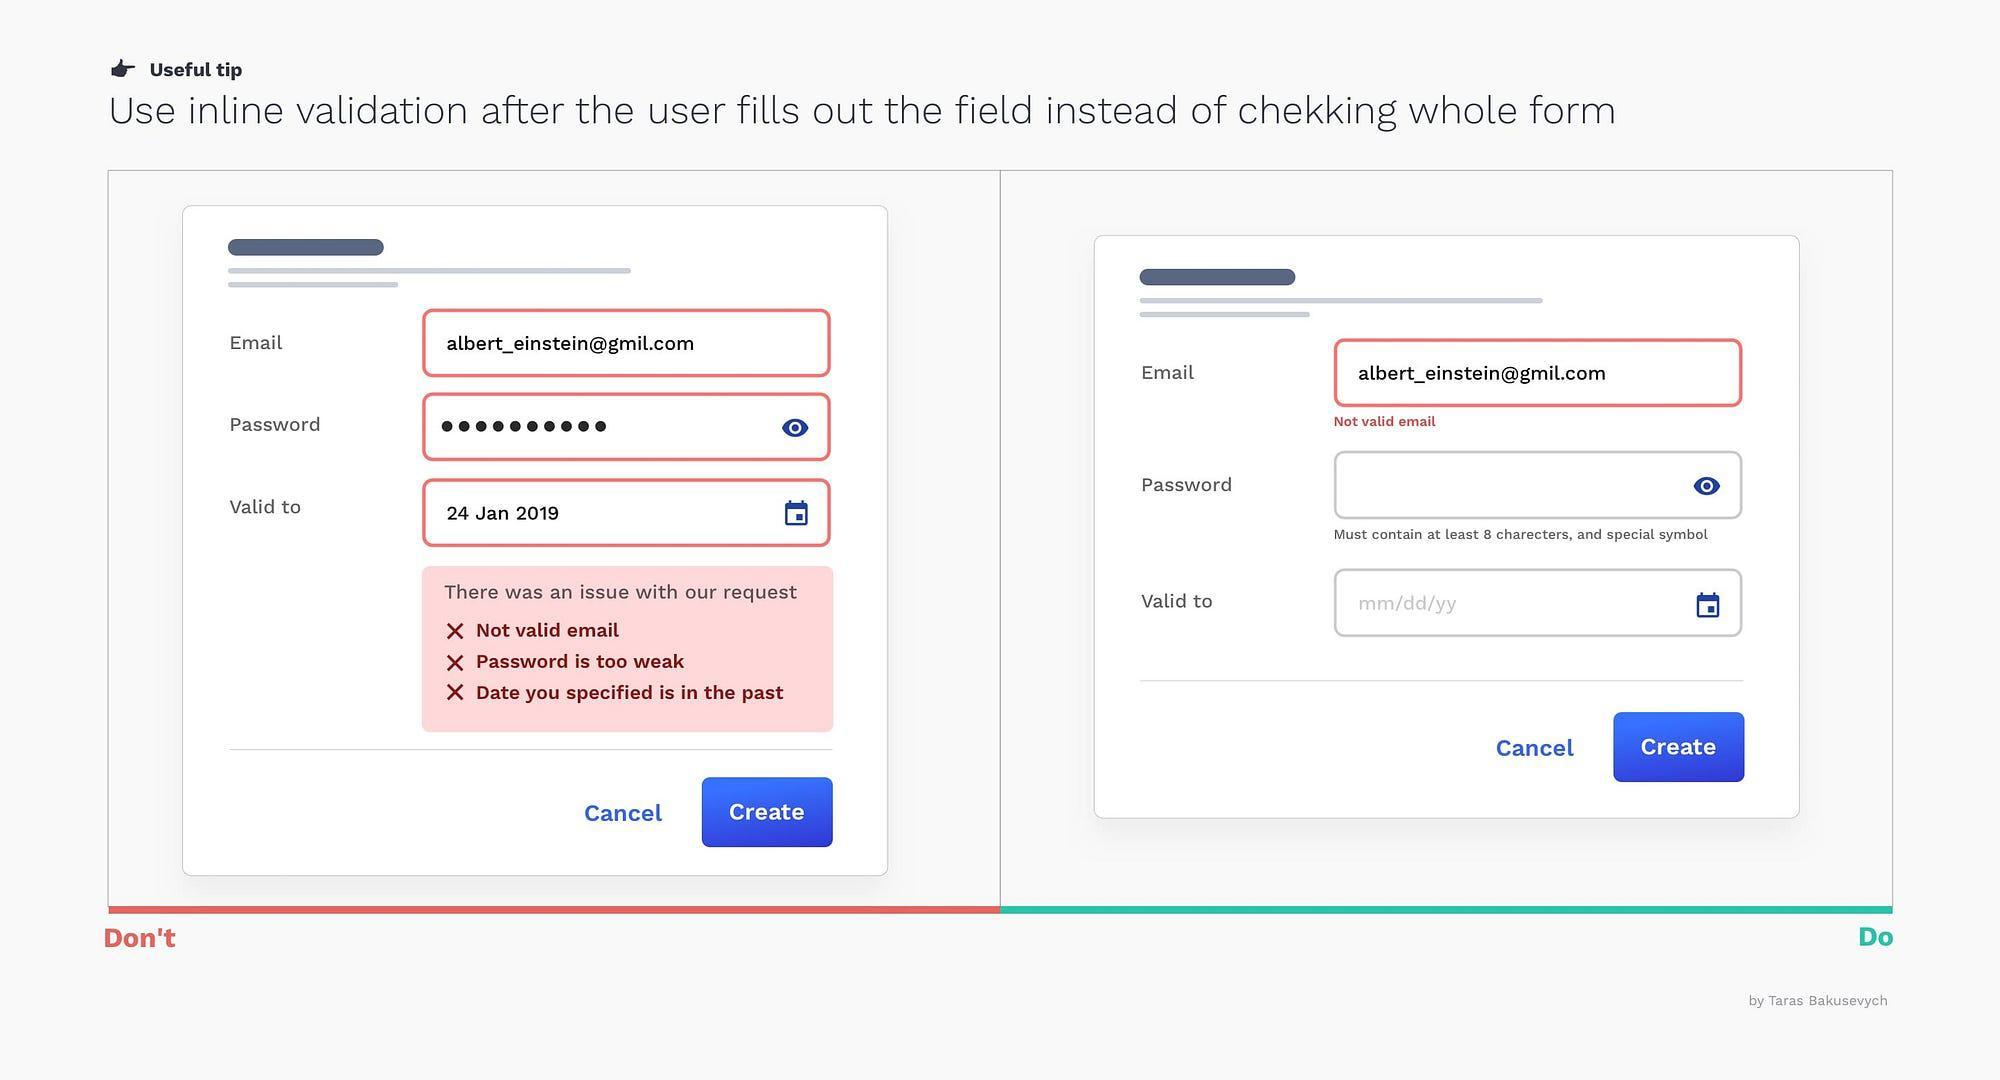button: (1614, 712, 1747, 783), (701, 779, 834, 849)
icon: (1695, 589, 1723, 621), (1691, 473, 1723, 499)
input: (422, 392, 831, 466), (424, 309, 832, 379), (1335, 340, 1743, 410), (1335, 454, 1743, 519), (1336, 569, 1743, 634), (424, 481, 830, 547)
label: (570, 783, 678, 845), (219, 406, 336, 444), (1122, 472, 1250, 505), (1134, 580, 1227, 622), (1124, 355, 1209, 396), (222, 492, 320, 527), (219, 323, 290, 363), (1496, 734, 1578, 767)
